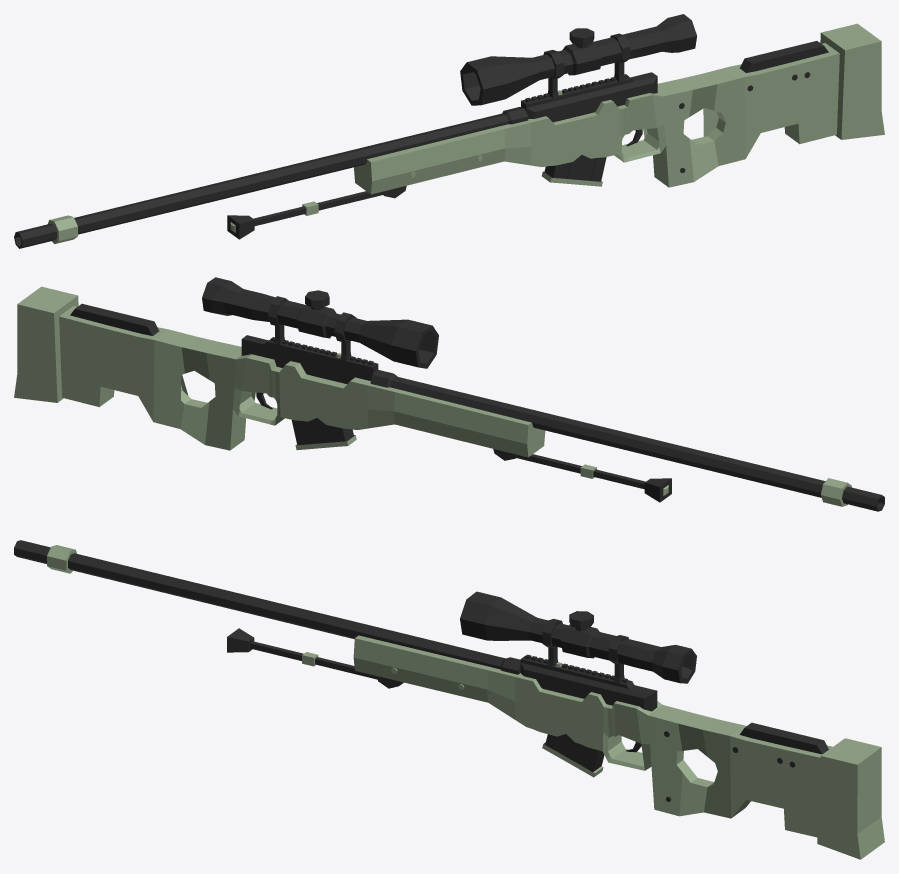
File: weapon-sniper.glb
3 views of the same model, one above another, from view 1: azimuth 30°, elevation 25°; view 2: azimuth 150°, elevation 25°; view 3: azimuth 330°, elevation 25° (orthographic).
Parts seen in each view (by area): view 1: AWM.001_6; view 2: AWM.001_6; view 3: AWM.001_6.
Part boxes in pixels (x1,y1,x2,y2): AWM.001_6: [14, 14, 884, 248]; AWM.001_6: [14, 277, 884, 511]; AWM.001_6: [14, 540, 884, 859].
Size of the model in its own units: 4.58 by 0.8688 by 0.2252.
